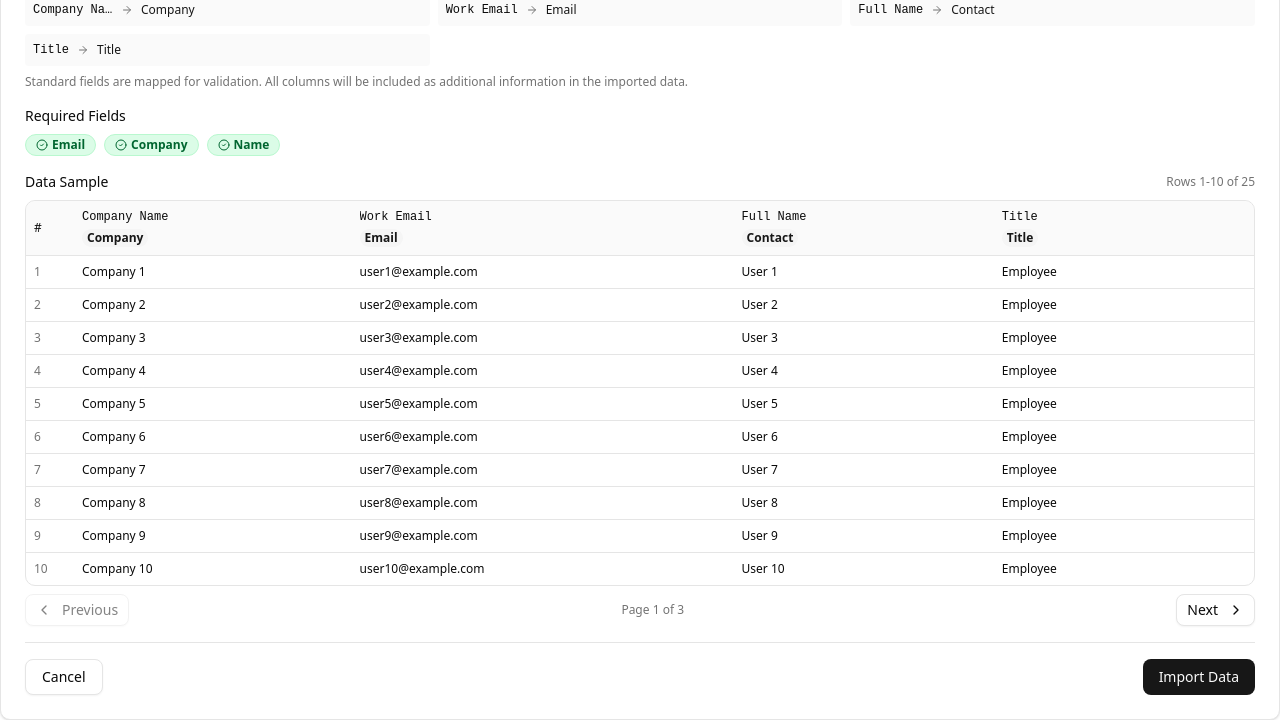
Test: CsvPreview › navigates between pages
(page scrolled)
Expected: the text "Company 1" is shown, [82,263,146,280]
Step 1. Click the button "Next" → click(1216, 610), box [1176,594,1255,626]
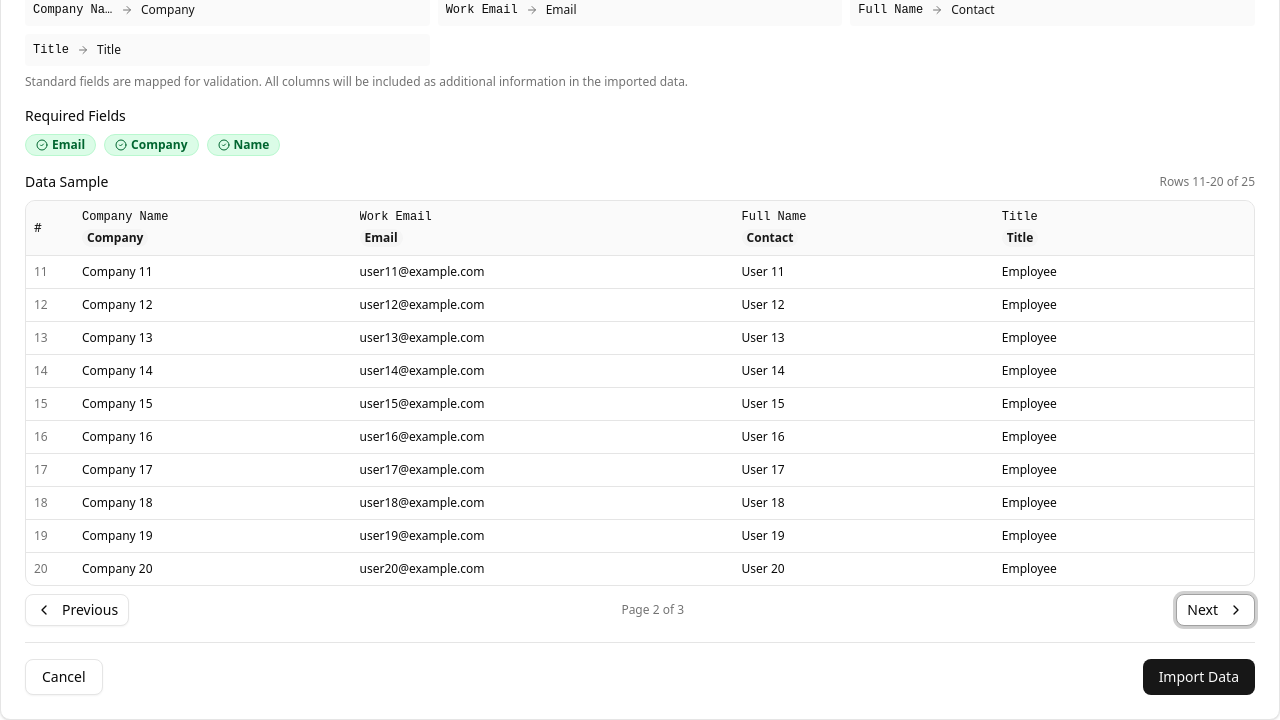
Now the text "Rows 11-20 of 25" is shown, box [1160,174,1255,190]
Now the text "Page 2 of 3" is shown, box [621,602,684,618]
Now the text "Company 11" is shown, box [82,263,153,280]
